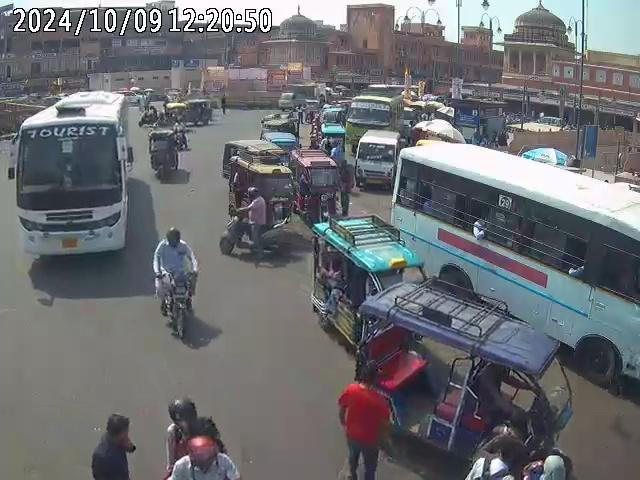auto: (352, 270, 575, 479), (308, 208, 409, 364), (221, 137, 296, 223), (293, 145, 345, 224), (146, 125, 183, 180), (170, 98, 213, 127)
bus: (390, 140, 639, 398), (6, 89, 130, 271), (344, 82, 407, 139), (352, 129, 400, 189)
helmet: (166, 398, 203, 426), (188, 432, 218, 466), (166, 228, 182, 246)
motorbike-rider: (160, 396, 240, 479), (150, 225, 201, 339)
person: (333, 363, 396, 479), (88, 416, 137, 479)
scooty-rider: (220, 183, 299, 259)
